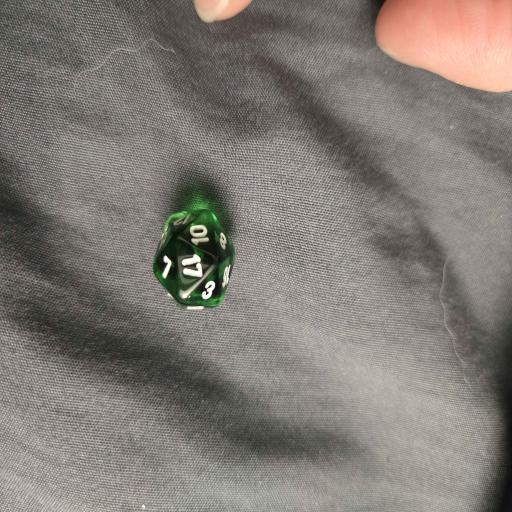twenty sided dice: (154, 209, 235, 309)
